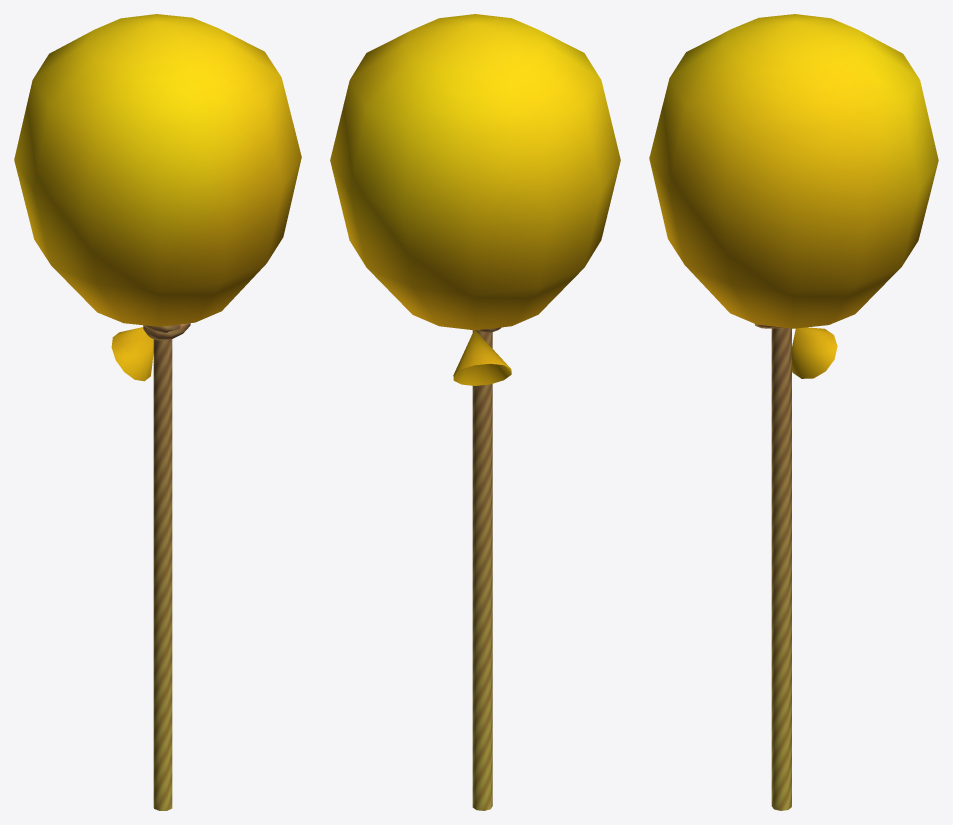
Rendered from SE_Baloon_01.fbx.
3 views of the same model, side by side, from view 1: azimuth 30°, elevation 25°; view 2: azimuth 150°, elevation 25°; view 3: azimuth 270°, elevation 25° (orthographic).
Parts seen in each view (by area): view 1: SE_Baloon_01; view 2: SE_Baloon_01; view 3: SE_Baloon_01.
Part boxes in pixels (<box>): SE_Baloon_01: <box>14,14,301,810</box>; SE_Baloon_01: <box>330,14,620,810</box>; SE_Baloon_01: <box>649,14,938,810</box>.
Size of the model in its own units: 1.63 by 4.87 by 1.63.
